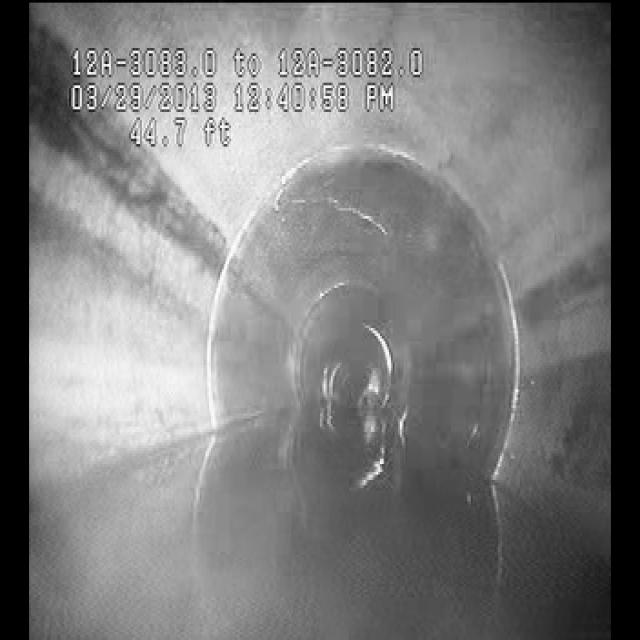Crack: (286, 166, 384, 242)
